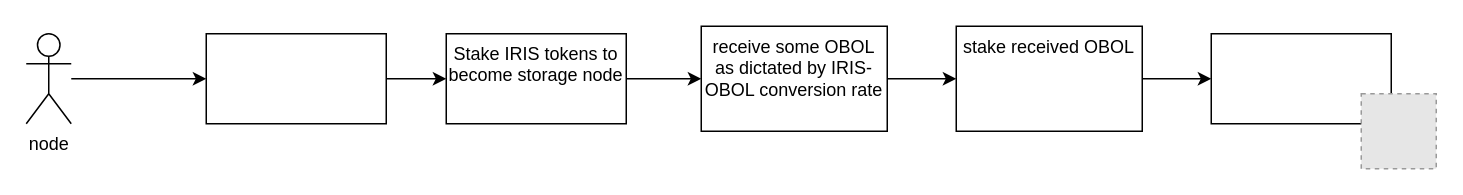
Some shapes in this 1463 by 195 pixel diagram are drawn without their labels. Grey dashed boxes stand in for pictures. Here are the shapes that lost their labels. From the top down, the centre of each, then its label:
At (295,78): "purchase X IRIS tokens from an exchange".
At (1300,78): "lease storage to data owners and earn rewards".
